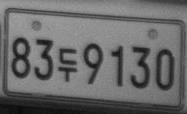0: (154, 48, 175, 90)
1: (108, 45, 127, 87)
3: (129, 46, 150, 89), (33, 38, 54, 80)
8: (10, 36, 31, 79)
9: (82, 42, 104, 85)
두: (57, 48, 77, 83)
